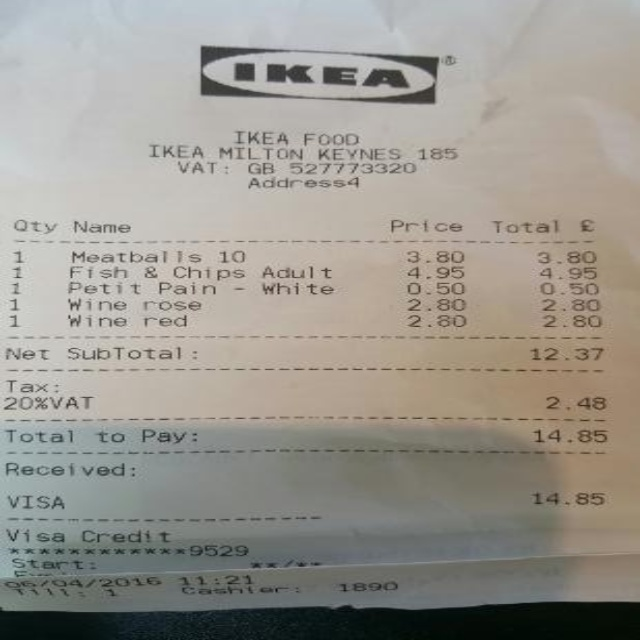invoice_table: (7, 248, 604, 331)
invoice_title: (147, 129, 458, 189)
invoice_total: (5, 427, 610, 444)
